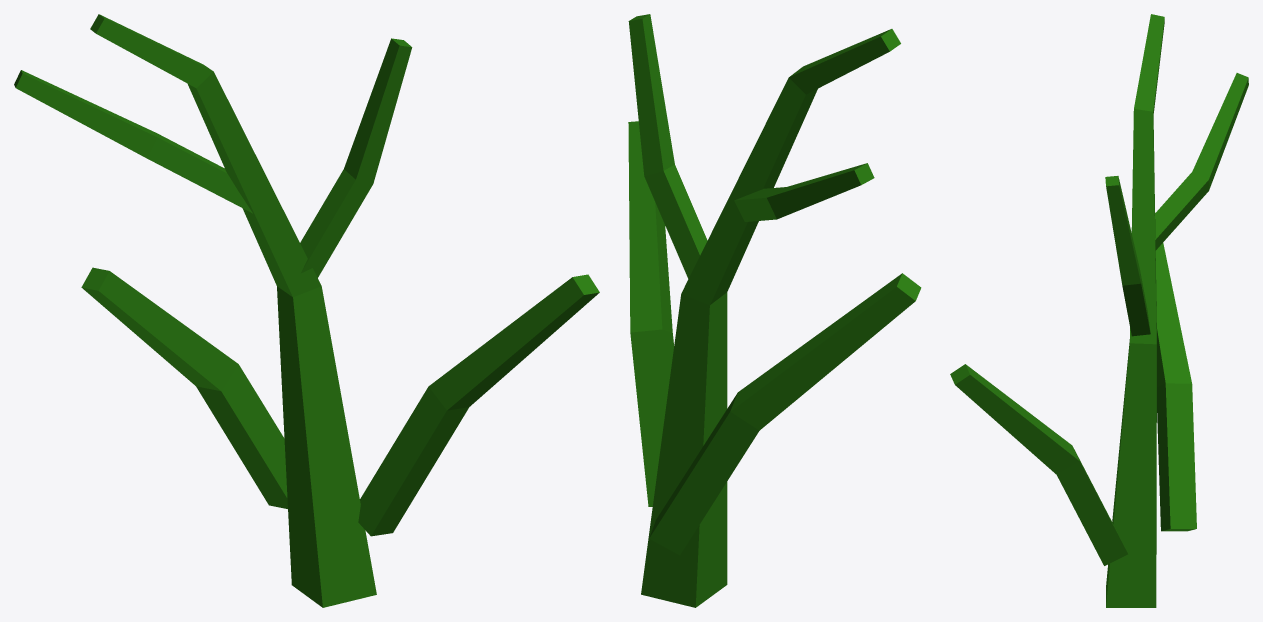
Rendered from grass03.fbx.
3 renders of one model, left to right at view 1: azimuth 30°, elevation 25°; view 2: azimuth 150°, elevation 25°; view 3: azimuth 270°, elevation 25°, orthographic. The views are drawn at different scales.
Visible parts, largest first — view 1: grass_02_Plane_002; view 2: grass_02_Plane_002; view 3: grass_02_Plane_002.
Boxes of the visible parts, x1,y1,x2,y2 form: grass_02_Plane_002: (14, 14, 599, 607); grass_02_Plane_002: (628, 14, 921, 607); grass_02_Plane_002: (950, 14, 1248, 607).
Bounding box in the file's own units: 26.83 × 38.5 × 20.95.
